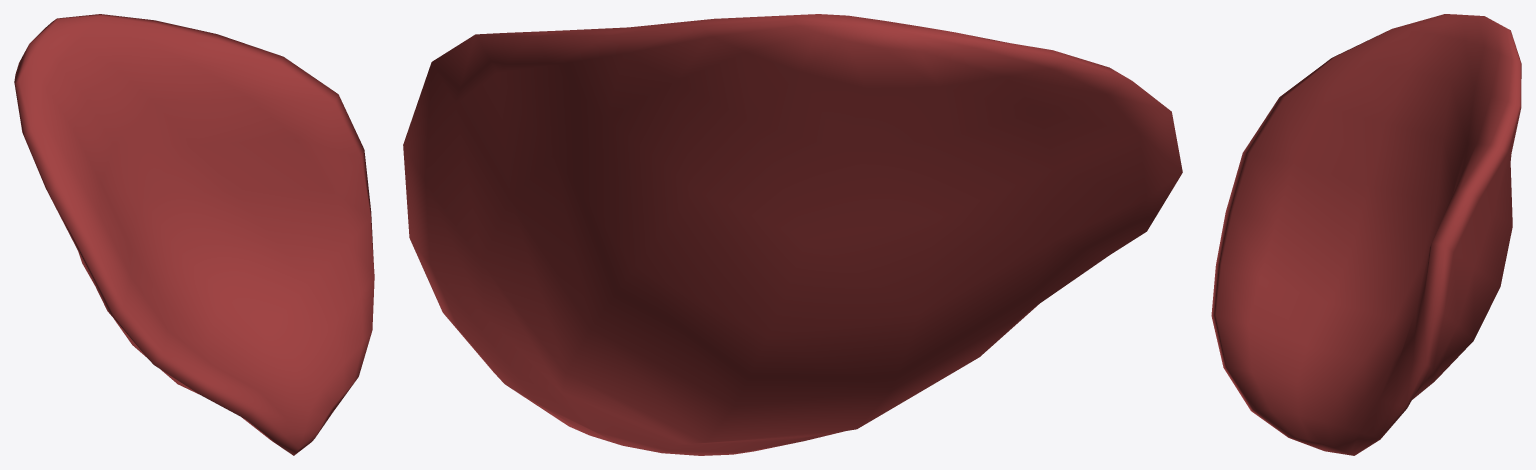
The model's file is sciatic-bursa-of-gluteus-maximus-muscle-r.glb.
3 views of the same model, side by side, from view 1: azimuth 30°, elevation 25°; view 2: azimuth 150°, elevation 25°; view 3: azimuth 270°, elevation 25° (orthographic). The views are drawn at different scales.
Visible parts, largest first — view 1: Sciatic bursa of gluteus maximus muscle.r; view 2: Sciatic bursa of gluteus maximus muscle.r; view 3: Sciatic bursa of gluteus maximus muscle.r.
Boxes of the visible parts, <box> form: Sciatic bursa of gluteus maximus muscle.r: <box>14,14,374,455</box>; Sciatic bursa of gluteus maximus muscle.r: <box>403,14,1182,455</box>; Sciatic bursa of gluteus maximus muscle.r: <box>1211,14,1521,455</box>.
Bounding box in the file's own units: 0.0271 × 0.0258 × 0.0209.
